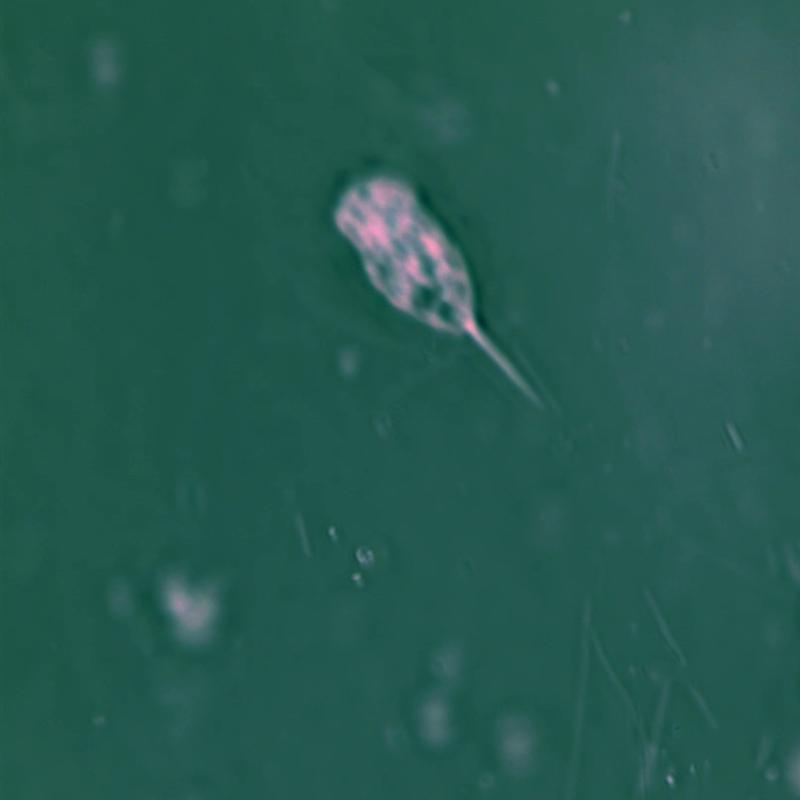depth:60: (308, 146, 597, 443)
